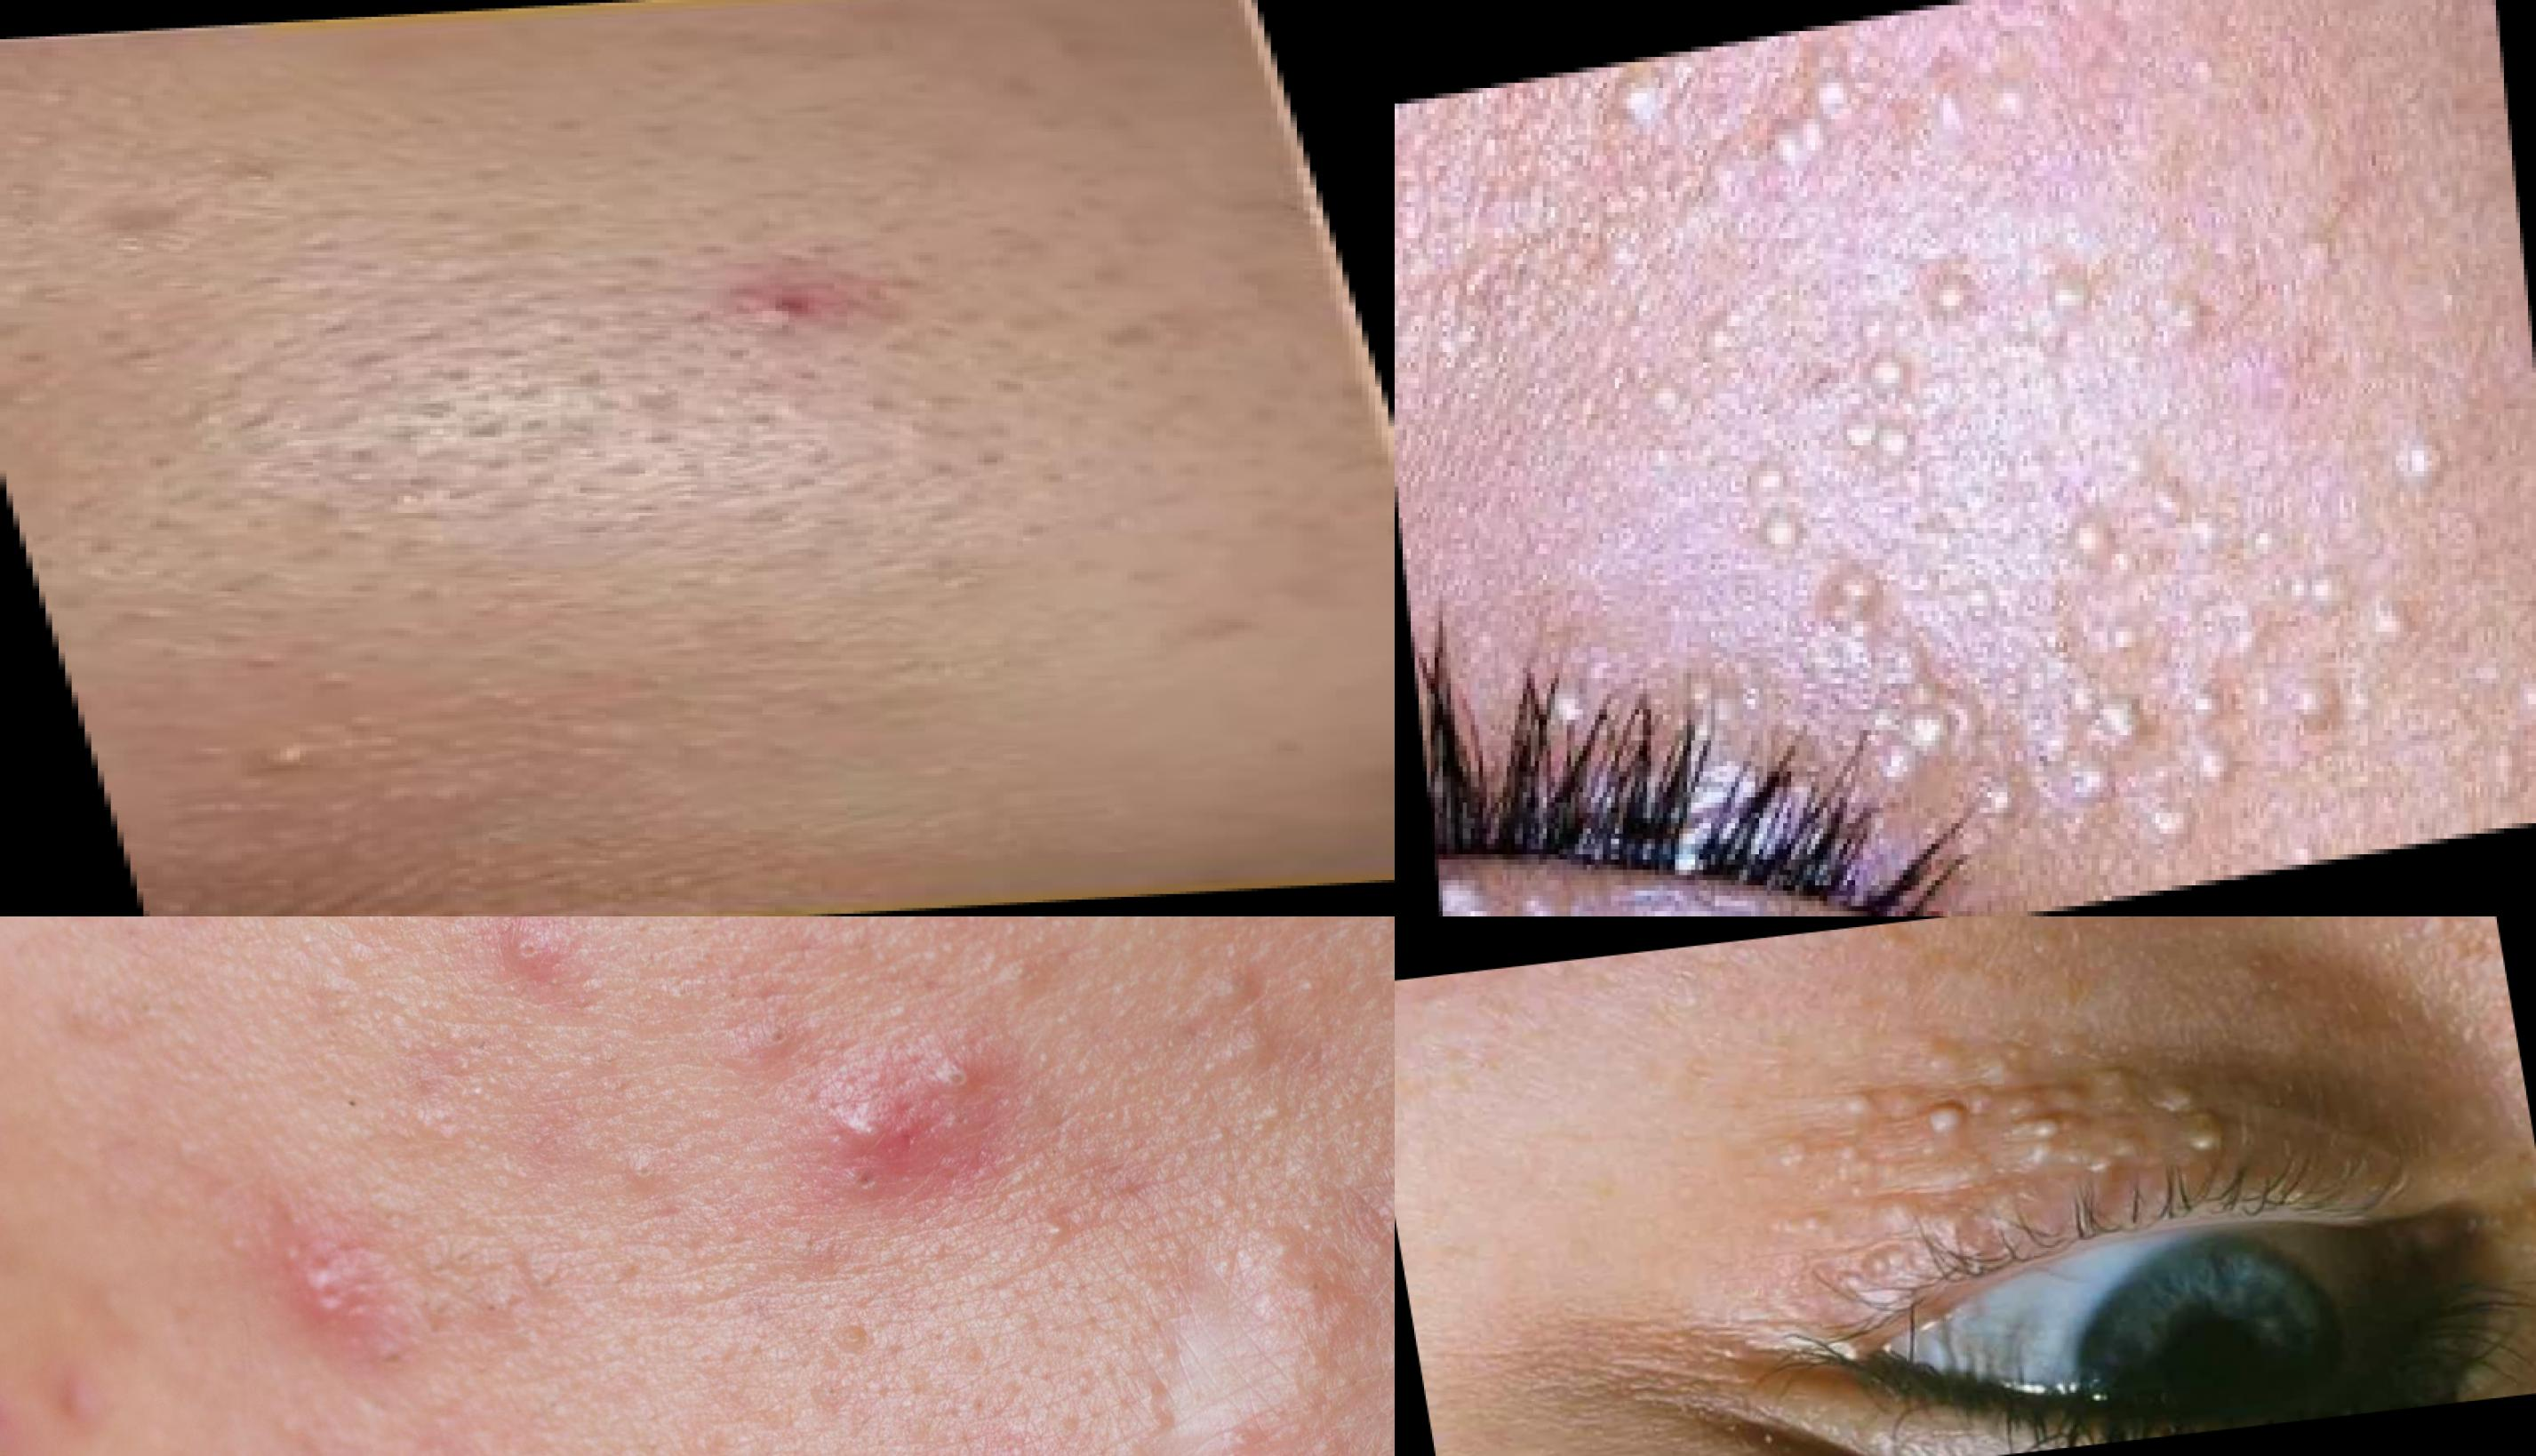milium: (1959, 637, 2257, 897), (2008, 219, 2245, 401), (2033, 456, 2221, 674), (1665, 35, 1878, 221), (2252, 519, 2425, 747), (1815, 535, 1958, 803), (1597, 275, 1773, 493), (1905, 37, 2073, 207), (1815, 324, 1930, 486), (1724, 428, 1817, 578), (1759, 1129, 1885, 1209), (2369, 404, 2461, 509), (1918, 253, 1979, 347), (1918, 1089, 1986, 1146), (1764, 1209, 1846, 1247), (2012, 1113, 2073, 1163), (1845, 1244, 1921, 1280), (2168, 1122, 2235, 1155)
papular: (756, 1035, 998, 1242), (646, 242, 932, 354), (1205, 1200, 1360, 1350), (253, 1217, 408, 1345)
syringoma: (1865, 1179, 2050, 1240), (1904, 1019, 2043, 1095), (2074, 1055, 2155, 1122)
whitehead: (85, 681, 451, 827), (1170, 944, 1325, 1097), (451, 918, 610, 1031), (798, 1284, 902, 1404), (1338, 1149, 1395, 1249)
